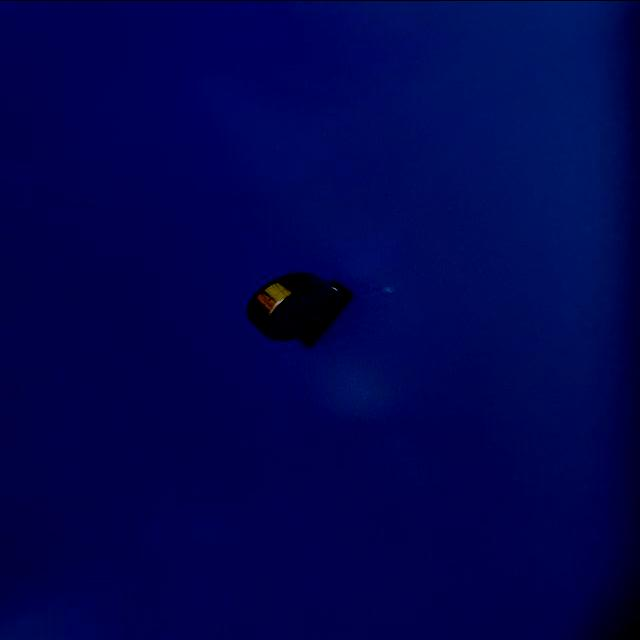COIN: (248, 270, 346, 342)
